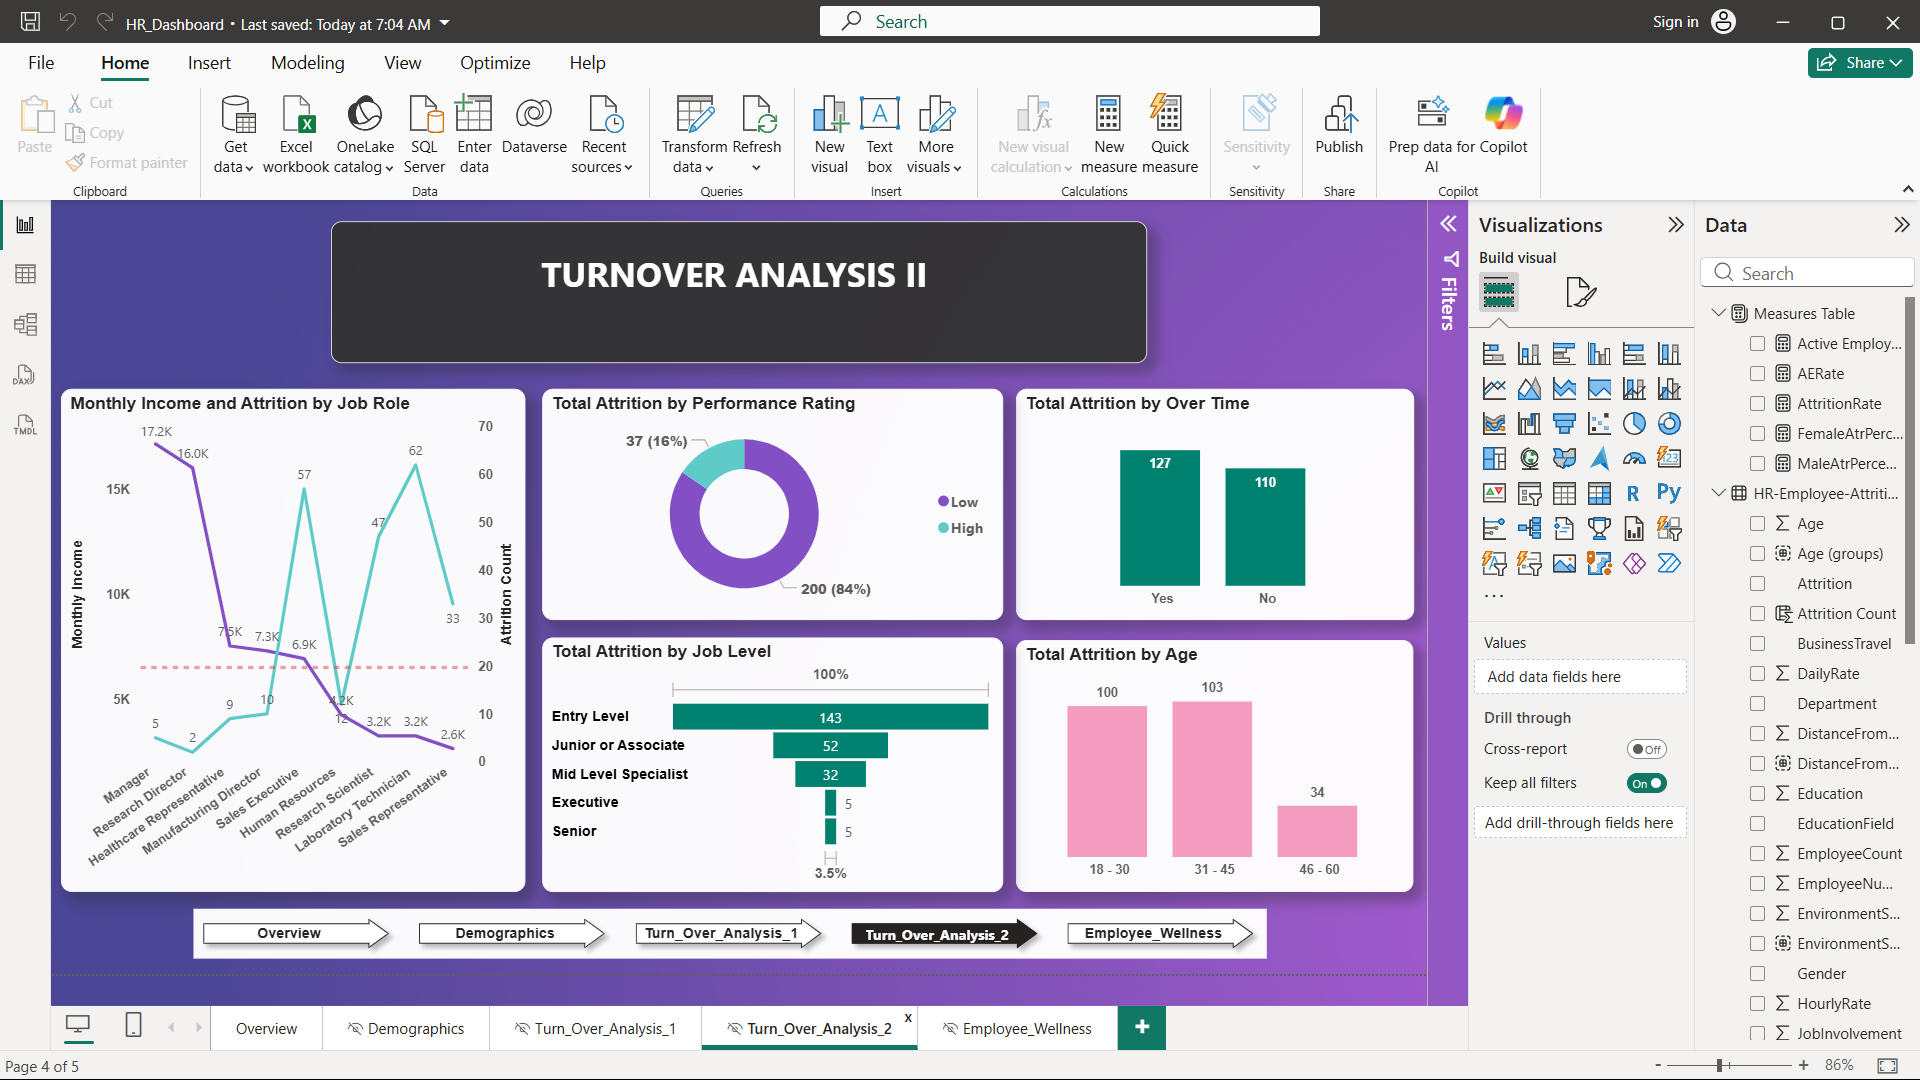

What the dashboard file says about the page in this screenshot:
{"tool":"powerbi","page":{"name":"Turn_Over_Analysis_2","canvas":[1280,720],"ordinal":3},"visuals":[{"type":"textbox","box":[260.7,19.5,759,132.1],"z":0},{"type":"lineChart","title":"Monthly Income and Attrition by Job Role","fields":{"Category":["HR-Employee-Attrition.JobRole"],"Y":["Avg(HR-Employee-Attrition.MonthlyIncome)"],"Y2":["Sum(HR-Employee-Attrition.Attrition Count)"]},"box":[8.9,175.6,431.8,468.2],"z":2000},{"type":"clusteredColumnChart","title":"Total  Attrition by Age","fields":{"Y":["Sum(HR-Employee-Attrition.Attrition Count)"],"Category":["HR-Employee-Attrition.Age (groups)"]},"box":[898.2,409.7,369.8,234.1],"z":3000},{"type":"columnChart","title":"Total Attrition by Over Time","fields":{"Category":["HR-Employee-Attrition.OverTime"],"Y":["Sum(HR-Employee-Attrition.Attrition Count)"]},"box":[898.2,175.6,370.6,215.5],"z":4000},{"type":"donutChart","title":"Total Attrition by Performance Rating","fields":{"Y":["Sum(HR-Employee-Attrition.Attrition Count)"],"Category":["HR-Employee-Attrition.PerformanceRating (groups)"]},"box":[457.5,175.6,429.2,215.5],"z":5000},{"type":"funnel","title":"Total Attrition by Job Level","fields":{"Y":["Sum(HR-Employee-Attrition.Attrition Count)"],"Category":["HR-Employee-Attrition.JobLevel (groups)"]},"box":[457.5,407,429.2,236.7],"z":6000},{"type":"pageNavigator","box":[133,658.8,998.4,46.1],"z":11000}]}

Visuals, with their boxes on the page's 1280x720 design canvas (x1, y1, x2, y2). These are canvas units, not pixel positions in the 1920x1080 screenshot, which may show the page scaled, cropped or inside an application window:
textbox: box(261, 20, 1020, 152)
"Monthly Income and Attrition by Job Role" lineChart: box(9, 176, 441, 644)
"Total  Attrition by Age" clusteredColumnChart: box(898, 410, 1268, 644)
"Total Attrition by Over Time" columnChart: box(898, 176, 1269, 391)
"Total Attrition by Performance Rating" donutChart: box(458, 176, 887, 391)
"Total Attrition by Job Level" funnel: box(458, 407, 887, 644)
pageNavigator: box(133, 659, 1131, 705)
